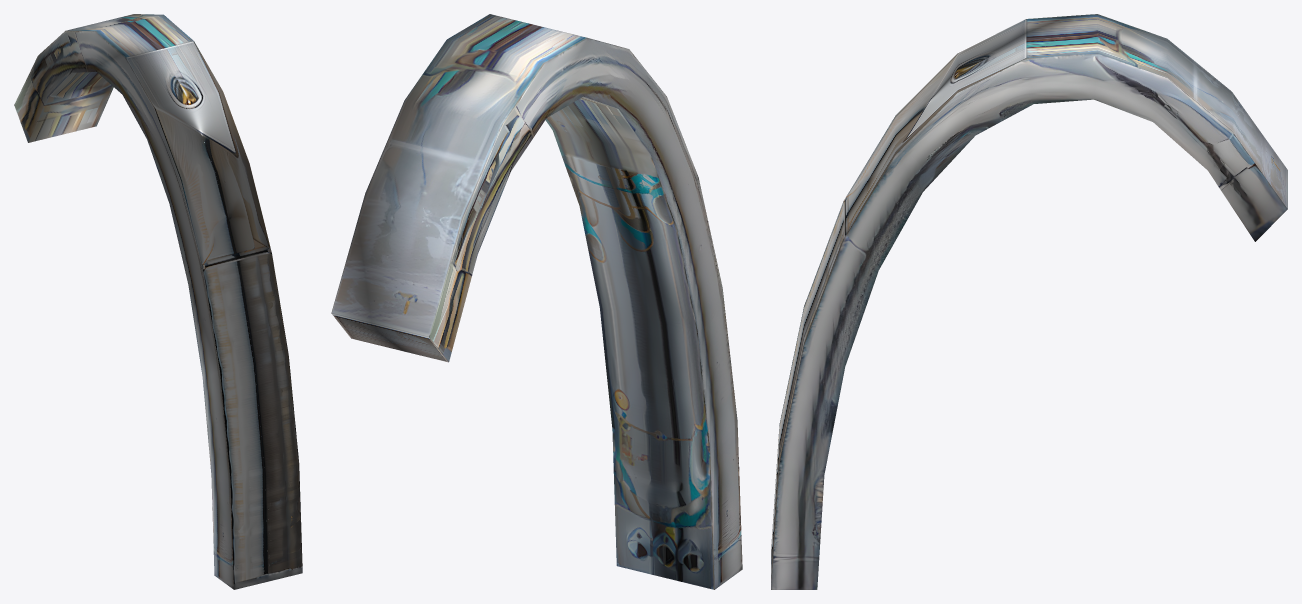
Rendered from faucet.glb.
3 views of the same model, side by side, from view 1: azimuth 30°, elevation 25°; view 2: azimuth 150°, elevation 25°; view 3: azimuth 270°, elevation 25° (orthographic). The views are drawn at different scales.
Bounding box in the file's own units: 0.73 × 4.64 × 4.05.
1 material, 1 textured.
